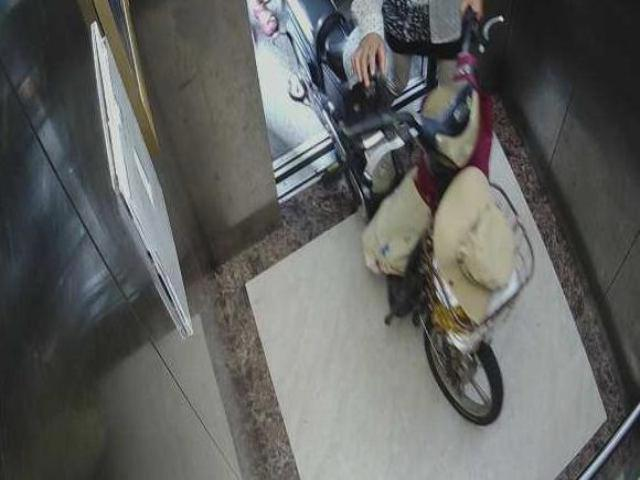emotor: (280, 5, 527, 434)
